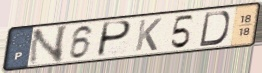5: (169, 13, 195, 49)
6: (69, 24, 93, 60)
D: (197, 10, 232, 48)
K: (133, 17, 164, 53)
N: (26, 23, 71, 68)
P: (95, 20, 133, 59)
